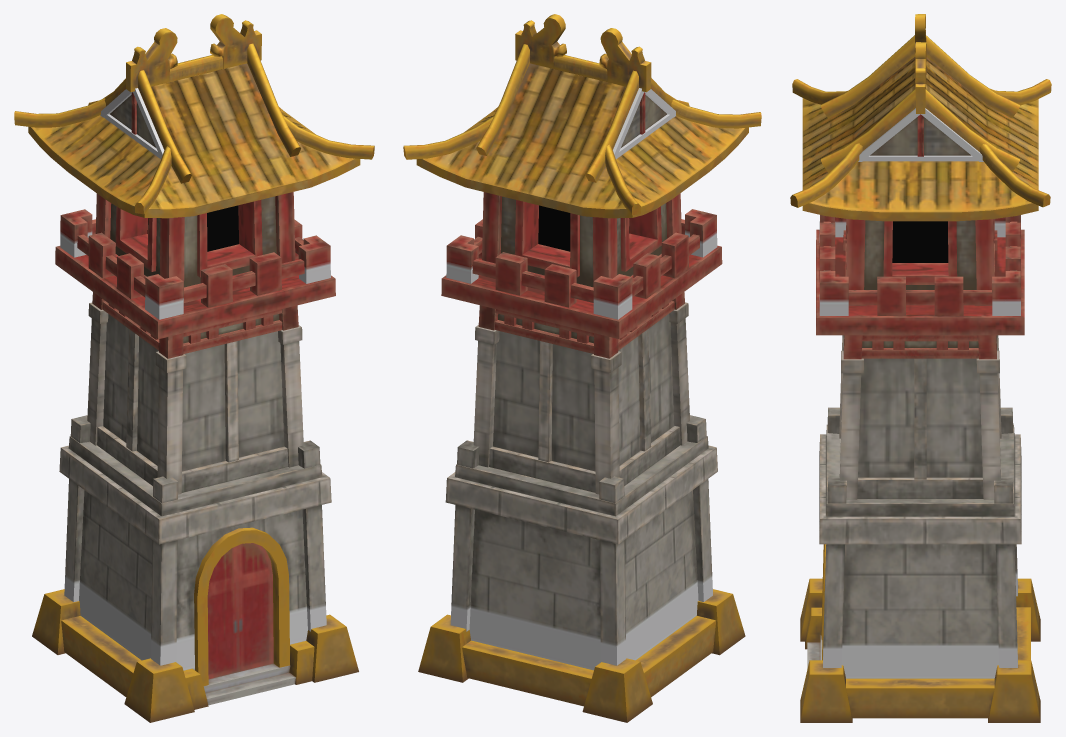
Rendered from 70-watchtower-watch_tower_c_age4.glb.
3 renders of one model, left to right at view 1: azimuth 30°, elevation 25°; view 2: azimuth 150°, elevation 25°; view 3: azimuth 270°, elevation 25°, orthographic.
Bounding box in the file's own units: 3.03 × 7.64 × 2.82.
1 material, 1 textured.
